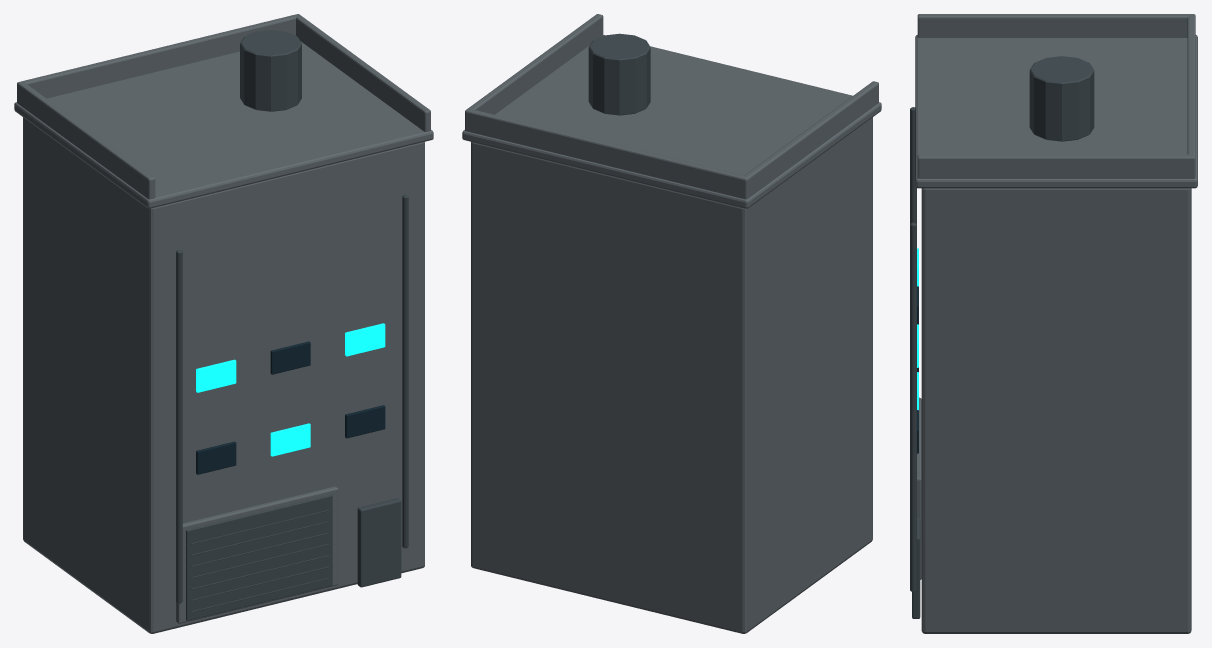
The model's file is service-block_b.glb.
3 renders of one model, left to right at view 1: azimuth 30°, elevation 25°; view 2: azimuth 150°, elevation 25°; view 3: azimuth 270°, elevation 25°, orthographic. The views are drawn at different scales.
Visible parts, largest first — view 1: ND_Batch_structure, ND_Batch_metal, ND_Batch_practical, ND_Batch_glass; view 2: ND_Batch_structure, ND_Batch_metal; view 3: ND_Batch_structure, ND_Batch_metal.
Boxes of the visible parts, left/top/right/bottom form: ND_Batch_structure: left=14, top=14, right=433, bottom=633; ND_Batch_metal: left=176, top=30, right=408, bottom=620; ND_Batch_practical: left=196, top=323, right=385, bottom=456; ND_Batch_glass: left=196, top=341, right=385, bottom=474; ND_Batch_structure: left=462, top=14, right=881, bottom=633; ND_Batch_metal: left=588, top=33, right=650, bottom=115; ND_Batch_structure: left=915, top=14, right=1197, bottom=633; ND_Batch_metal: left=910, top=56, right=1094, bottom=618.
Size of the model in its own units: 7.68 by 12.77 by 6.4.
